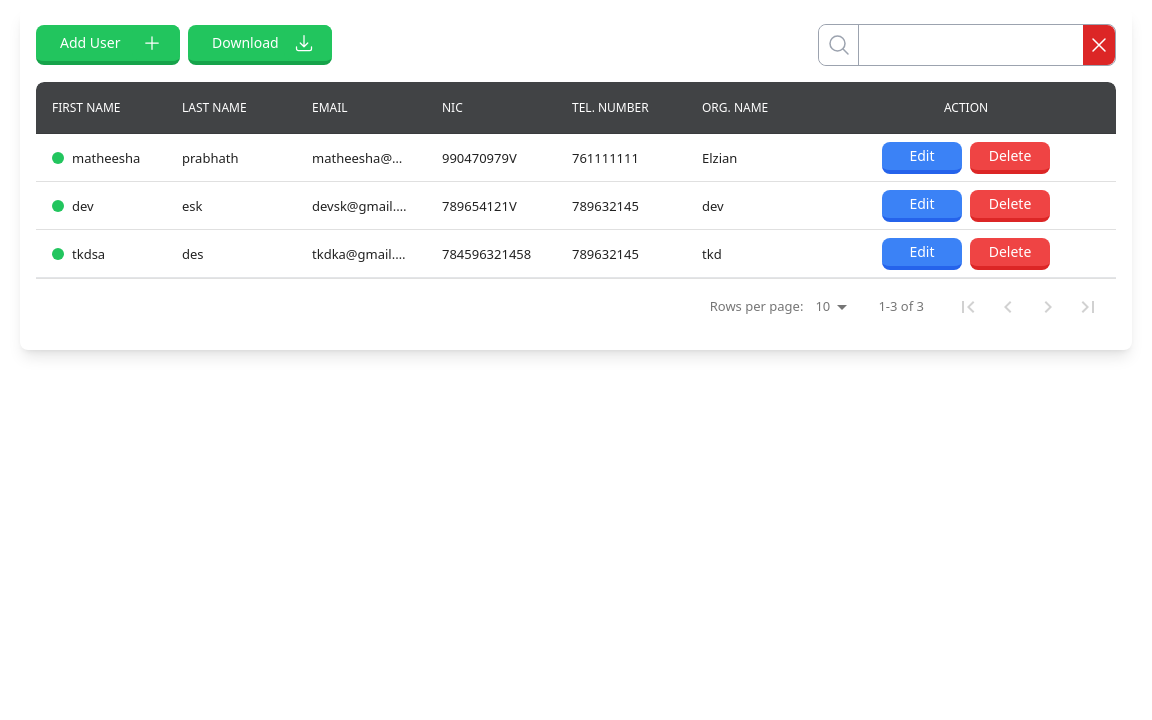
Scenario: ManageUsers Component › opens form modal when Add User is clicked
Click the button "Add User".
click(108, 45)  # box [36,25,180,65]
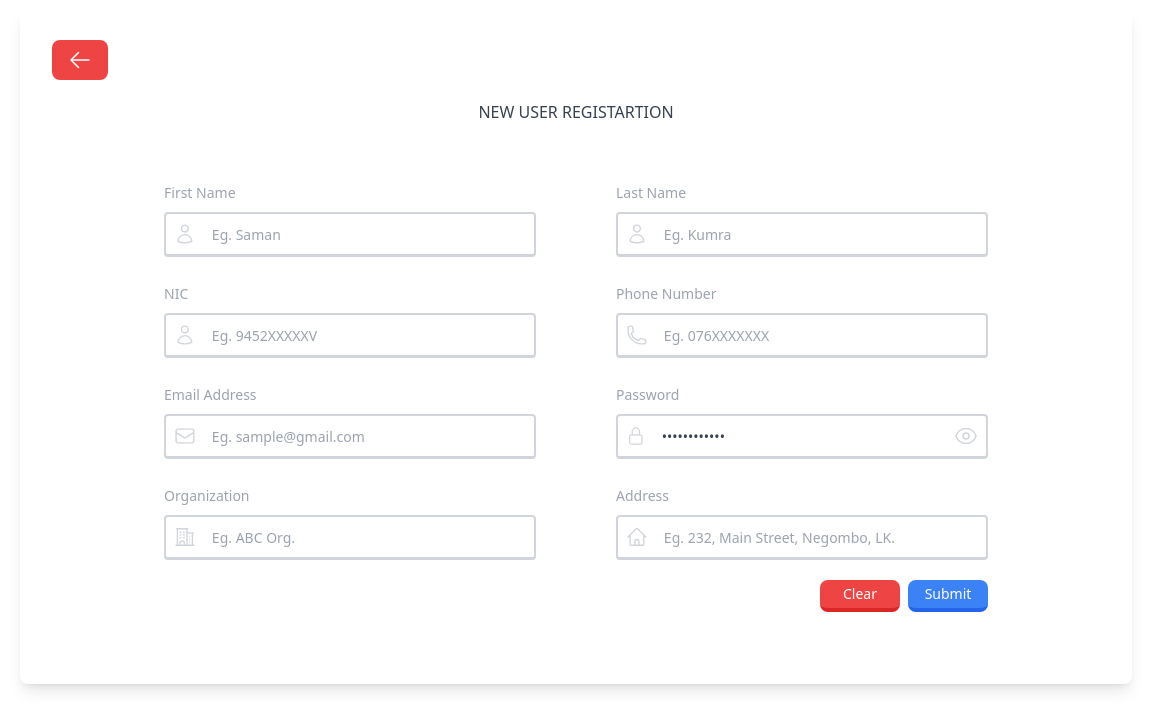
expect the button "Submit" is shown: met, box [908,580,988,612]
